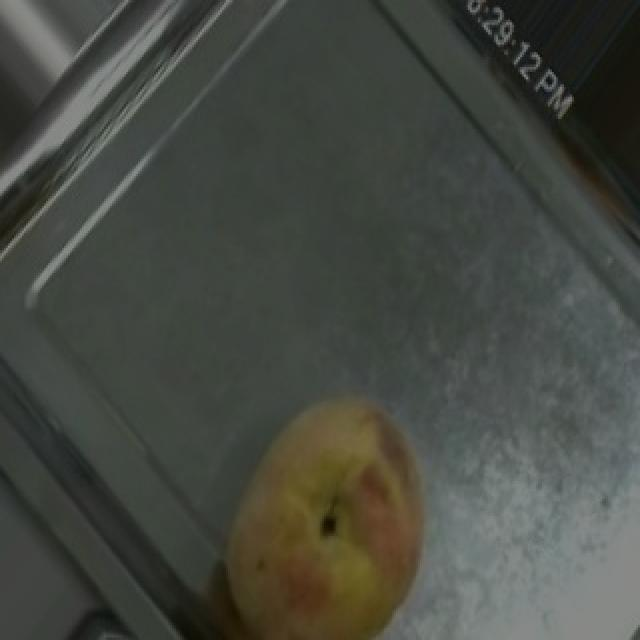Fruit: (178, 357, 476, 640)
